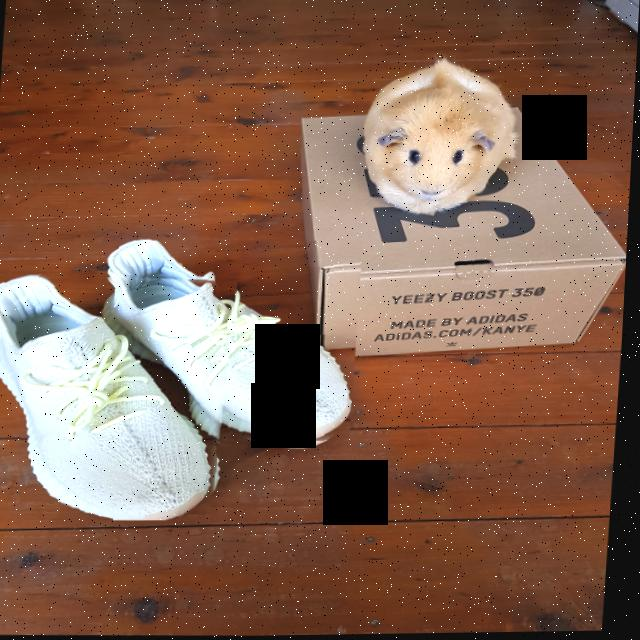shoe: (0, 269, 240, 524), (96, 237, 366, 453)
